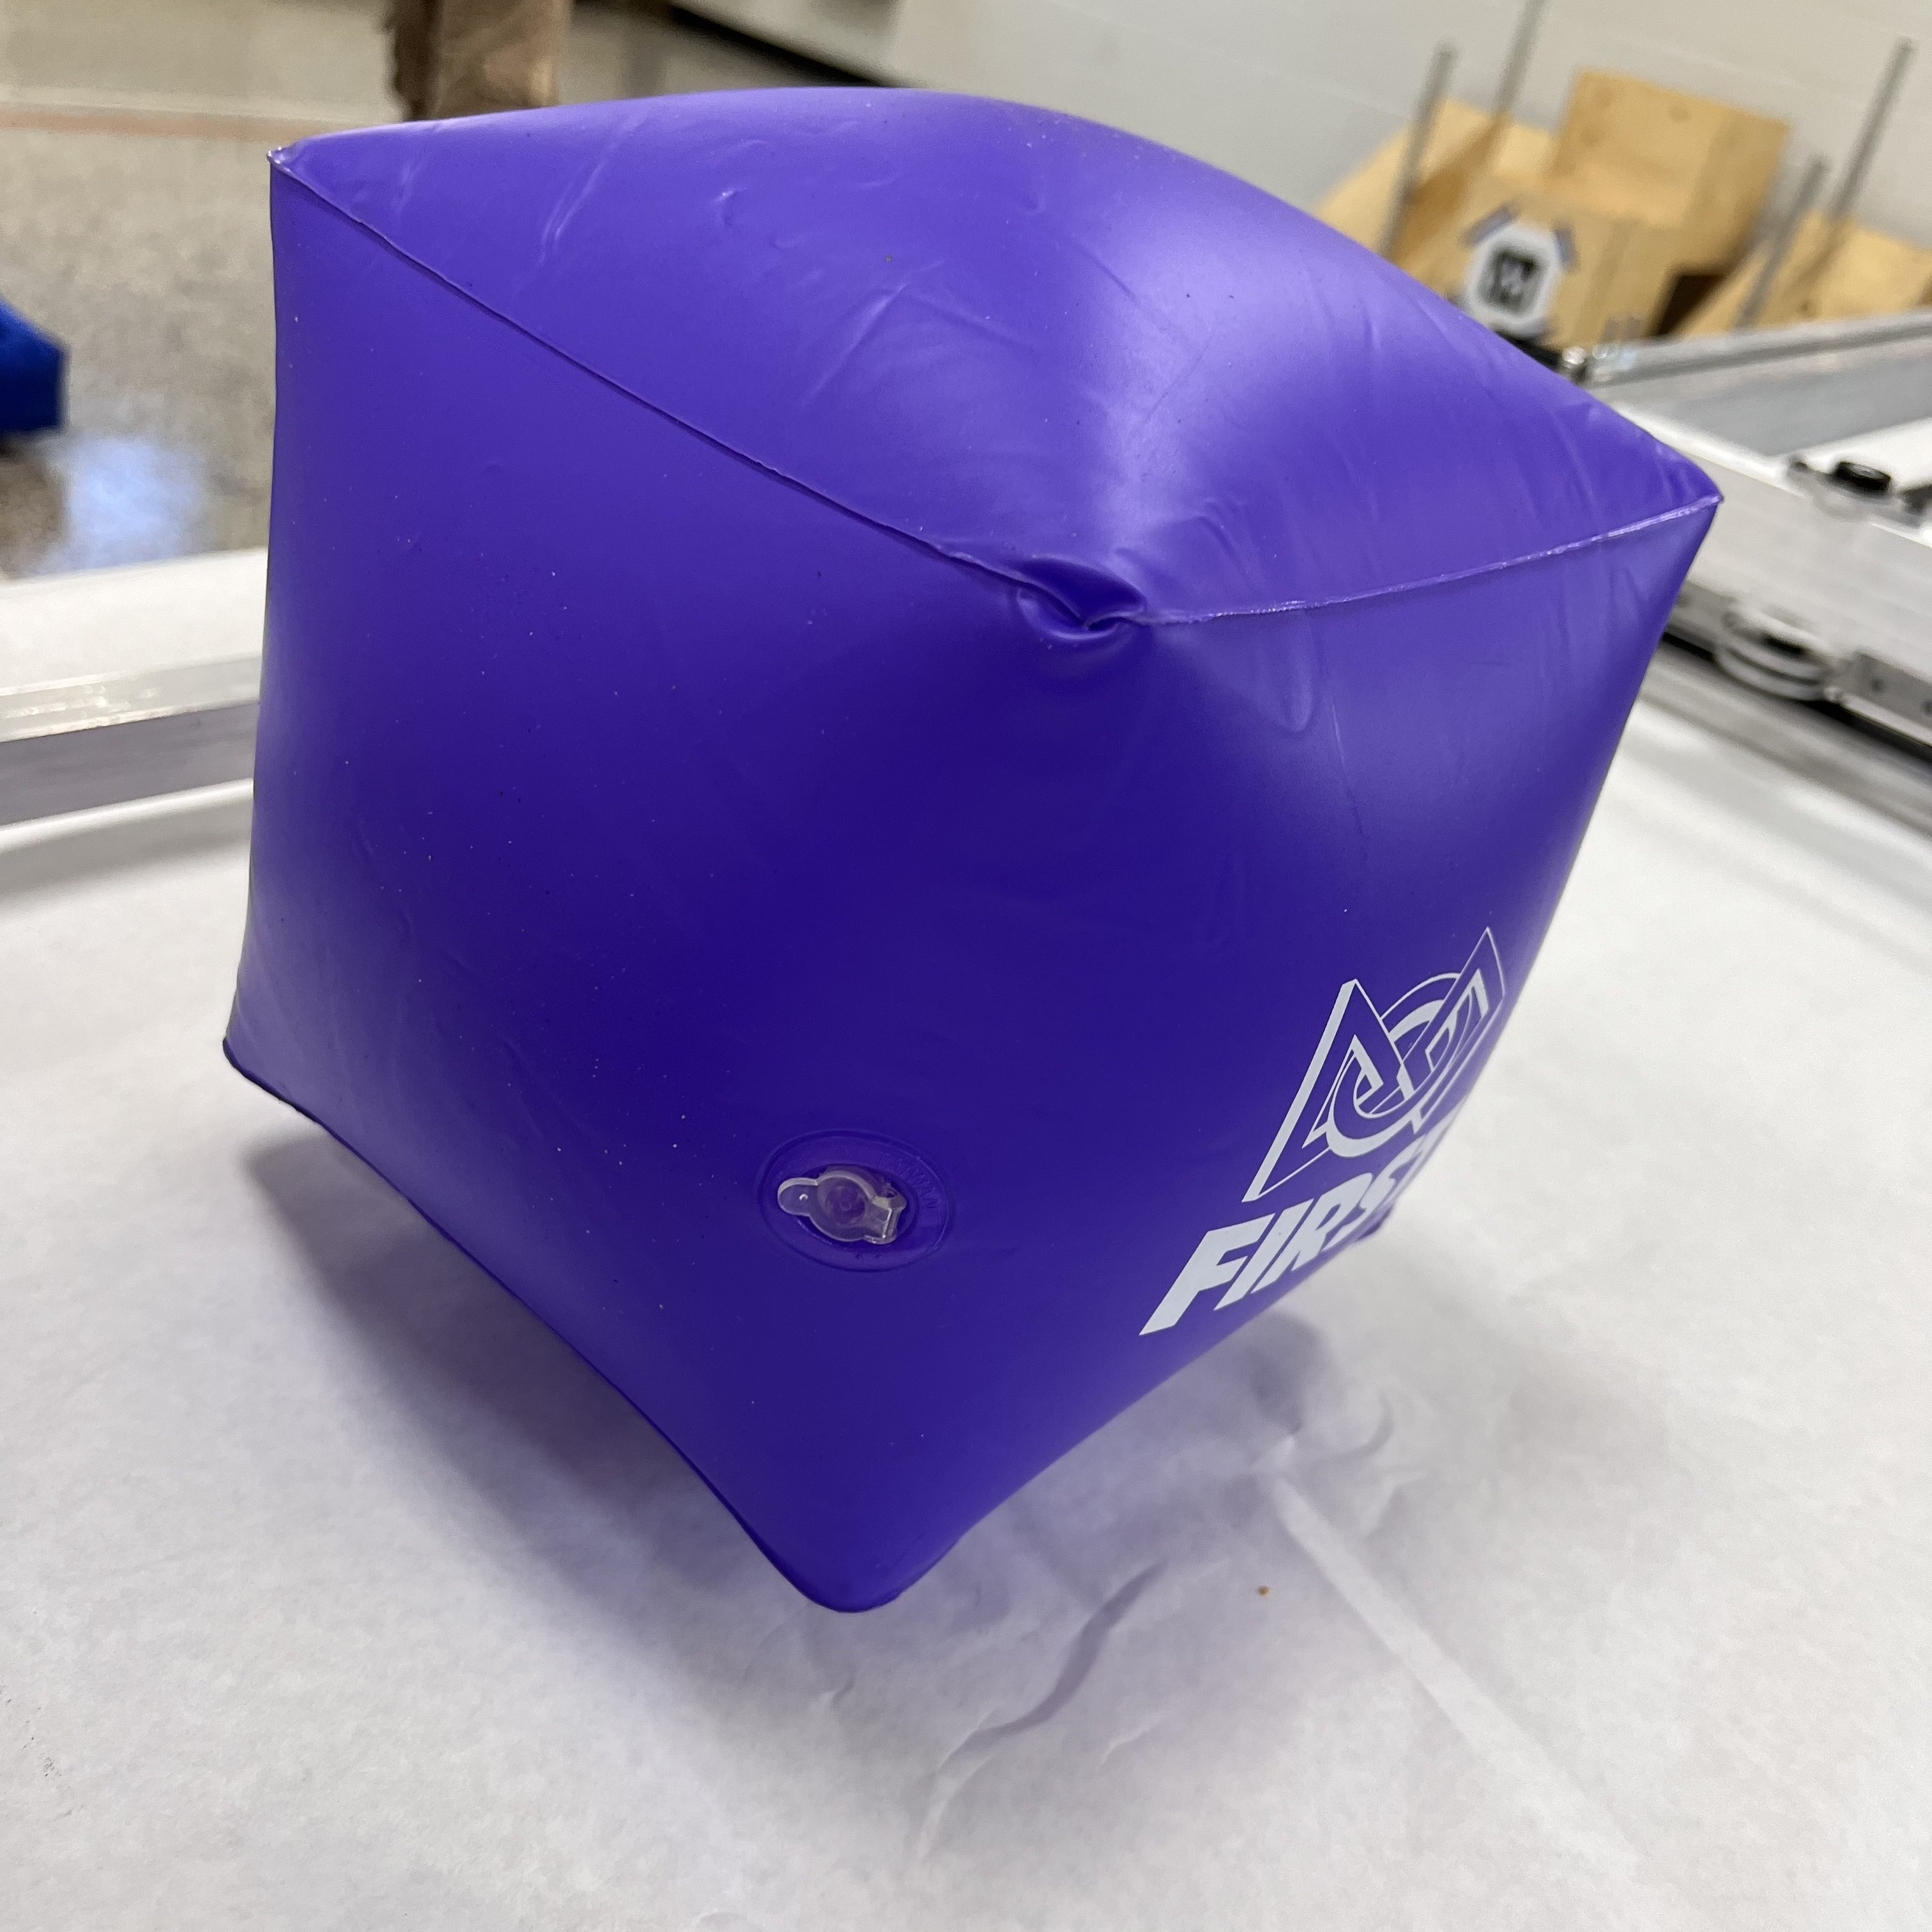cube: (225, 87, 1721, 1610)
